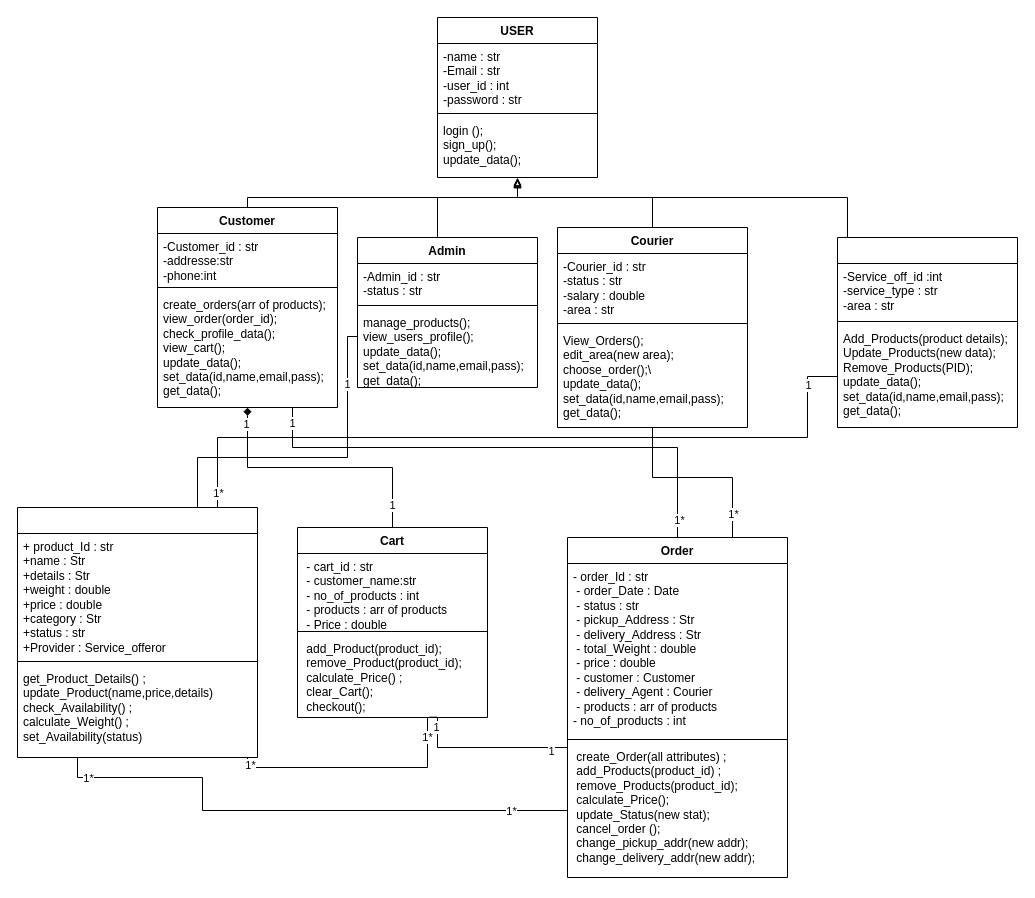
Some shapes in this 1035 by 898 pixel diagram are drawn without their labels. The box of each missing label's shape, as (x1, y1, x2, y2) in pixels:
Products: (16, 506, 258, 758)
Service_offeror: (836, 236, 1018, 428)
